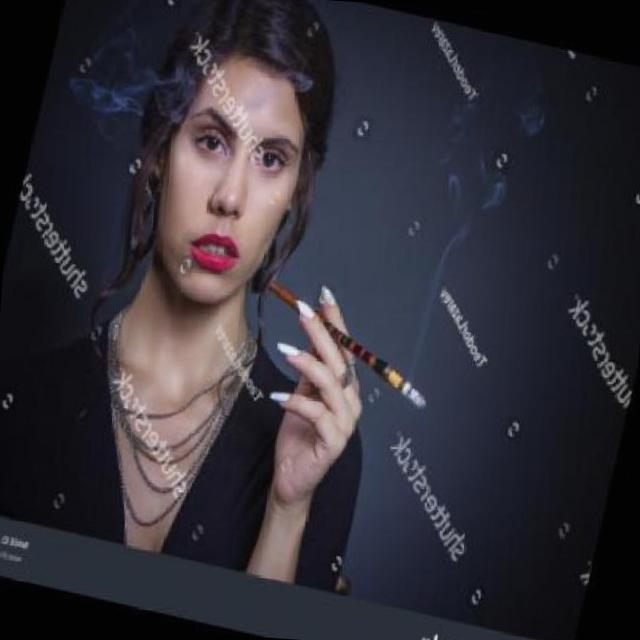cigarette: (377, 362, 436, 414)
